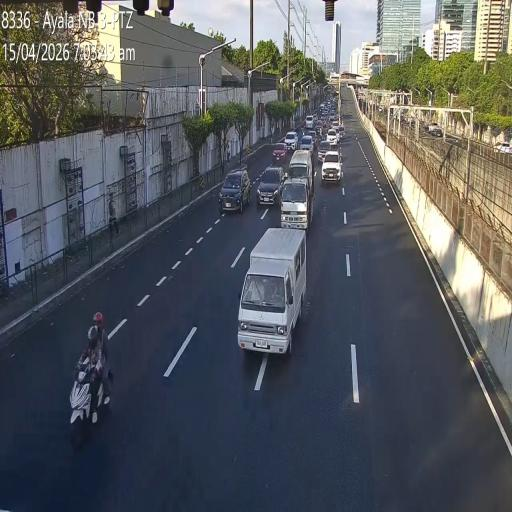Car: (238, 225, 308, 361), (218, 166, 252, 214), (256, 166, 286, 208), (321, 150, 342, 184), (272, 142, 289, 162), (317, 140, 331, 164), (300, 133, 315, 154), (284, 131, 298, 151), (326, 128, 338, 146)
Motor: (62, 313, 114, 444)
Not Accident: (318, 124, 341, 187)
